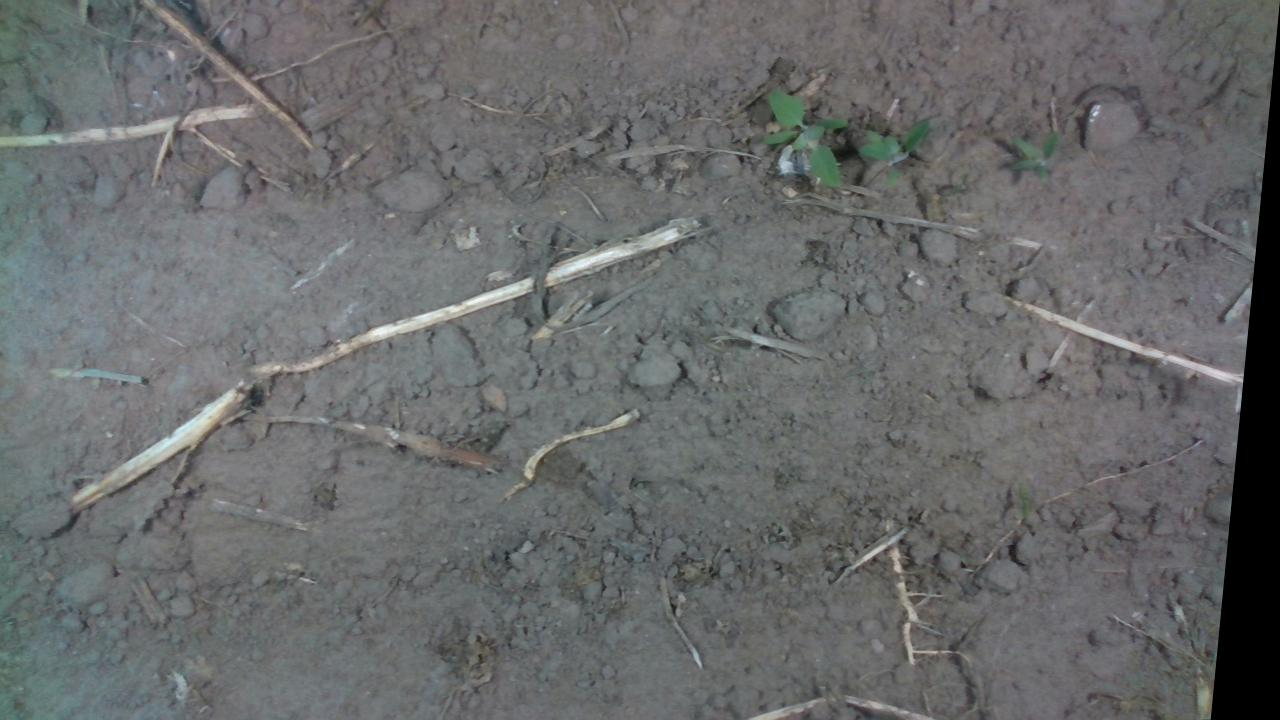weed: (758, 87, 855, 191), (1003, 125, 1062, 183)
